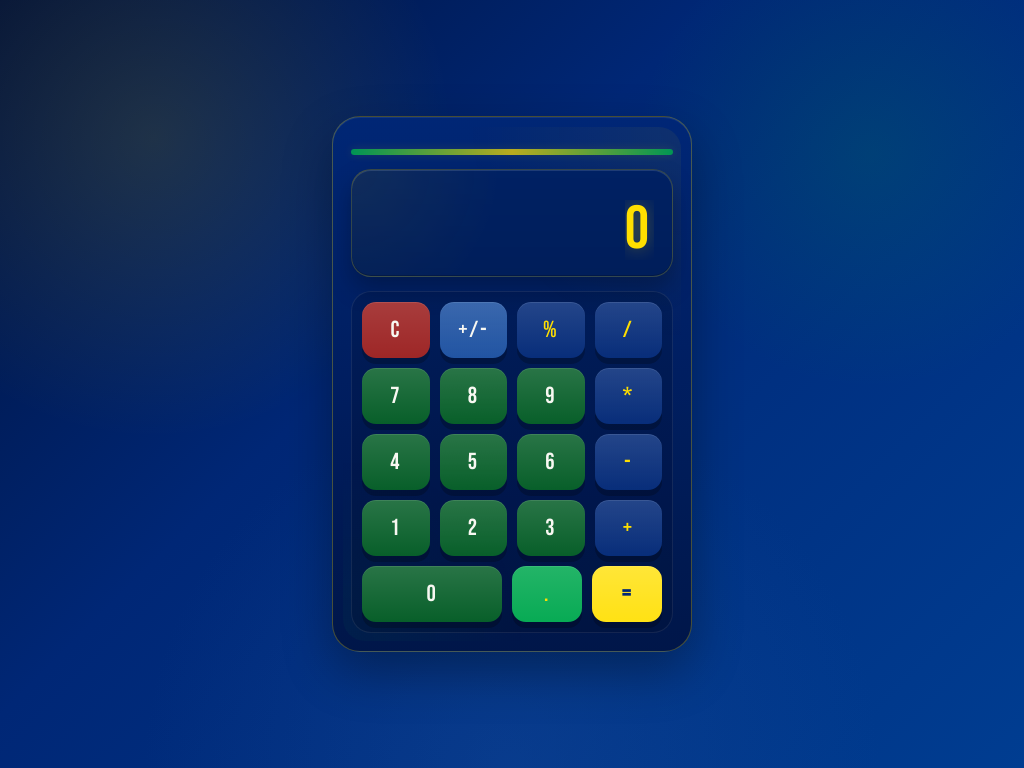
Test: Componente Calculator › muestra ERROR para un resultado negativo de la resta
Click the button "2": (473, 528) [440,500,507,556]
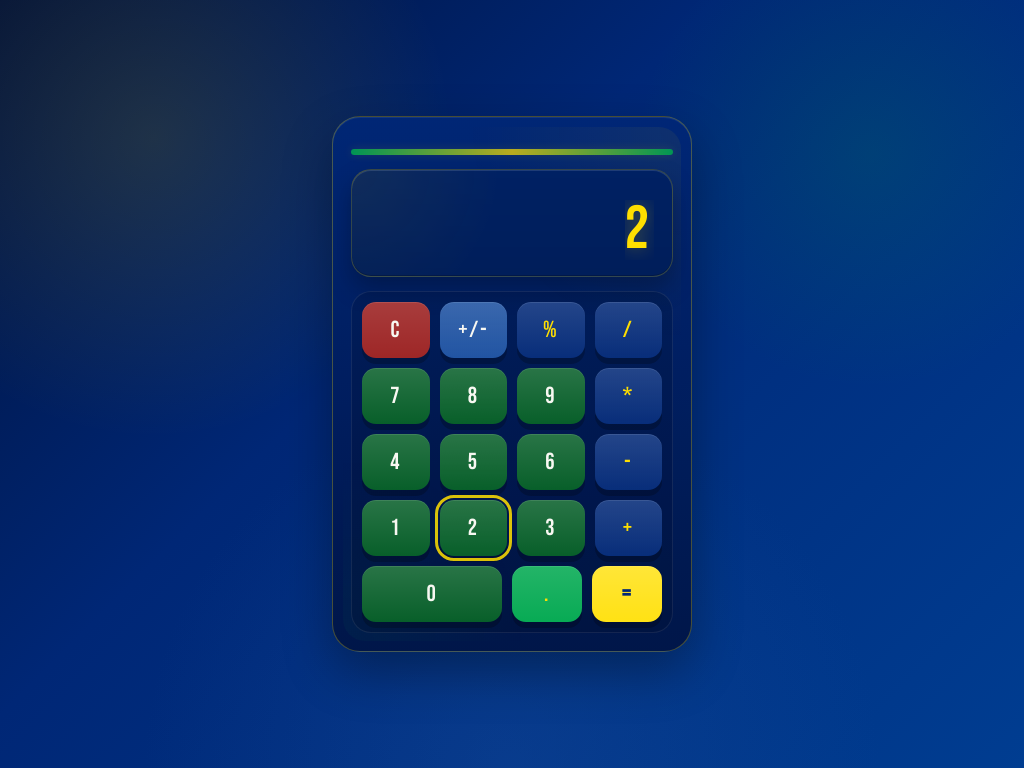
Click the button "-": (628, 462) [594,434,662,490]
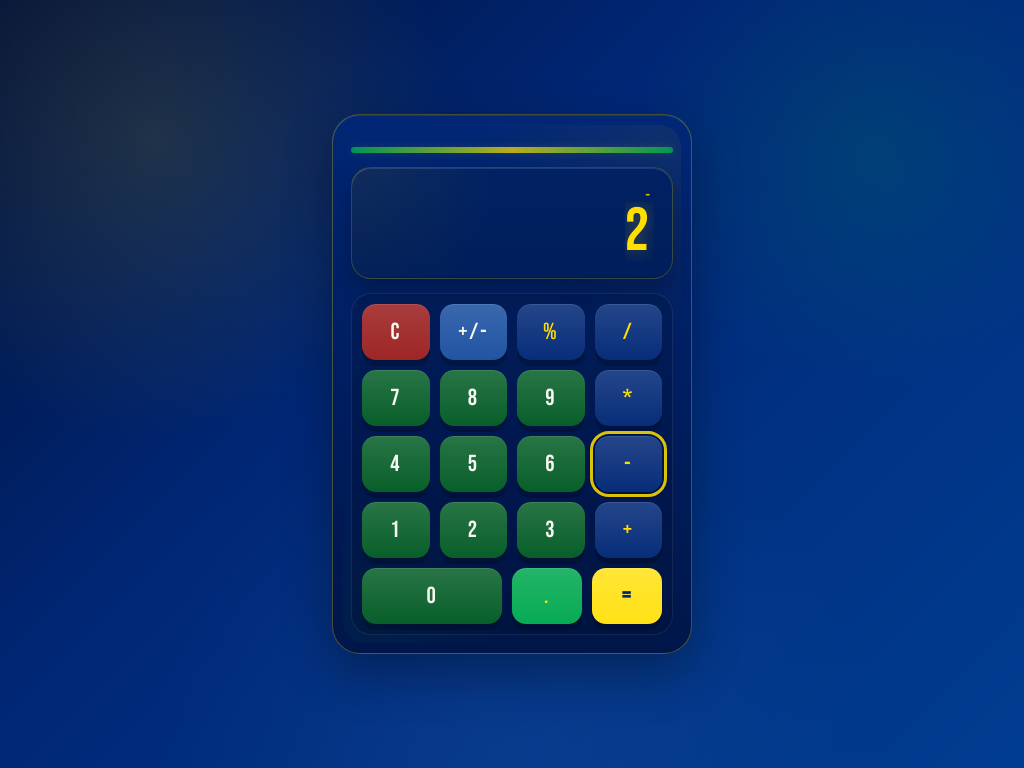
Click the button "9": (551, 398) [517,370,584,426]
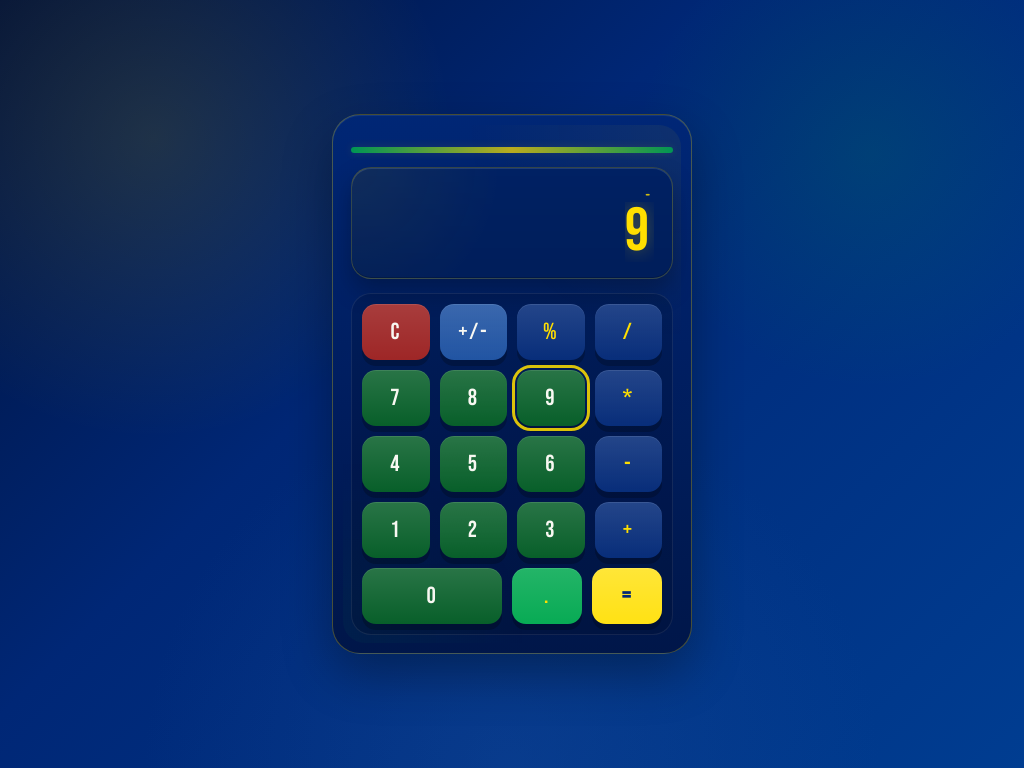
Click the button "=": (627, 596) [592,568,662,624]
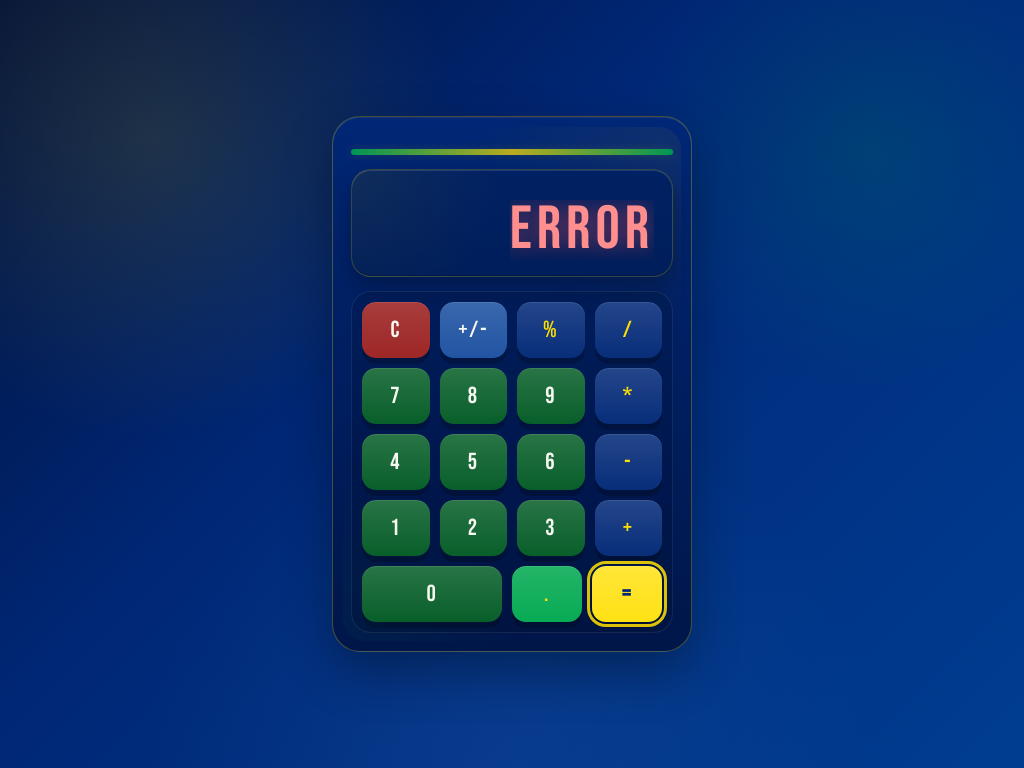
expect the message reads "ERROR": met, box [510,193,654,266]
